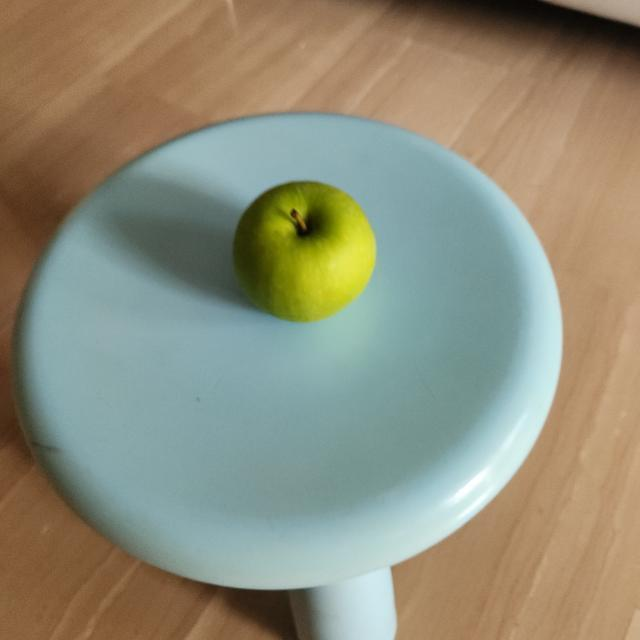apple: (235, 176, 379, 325)
